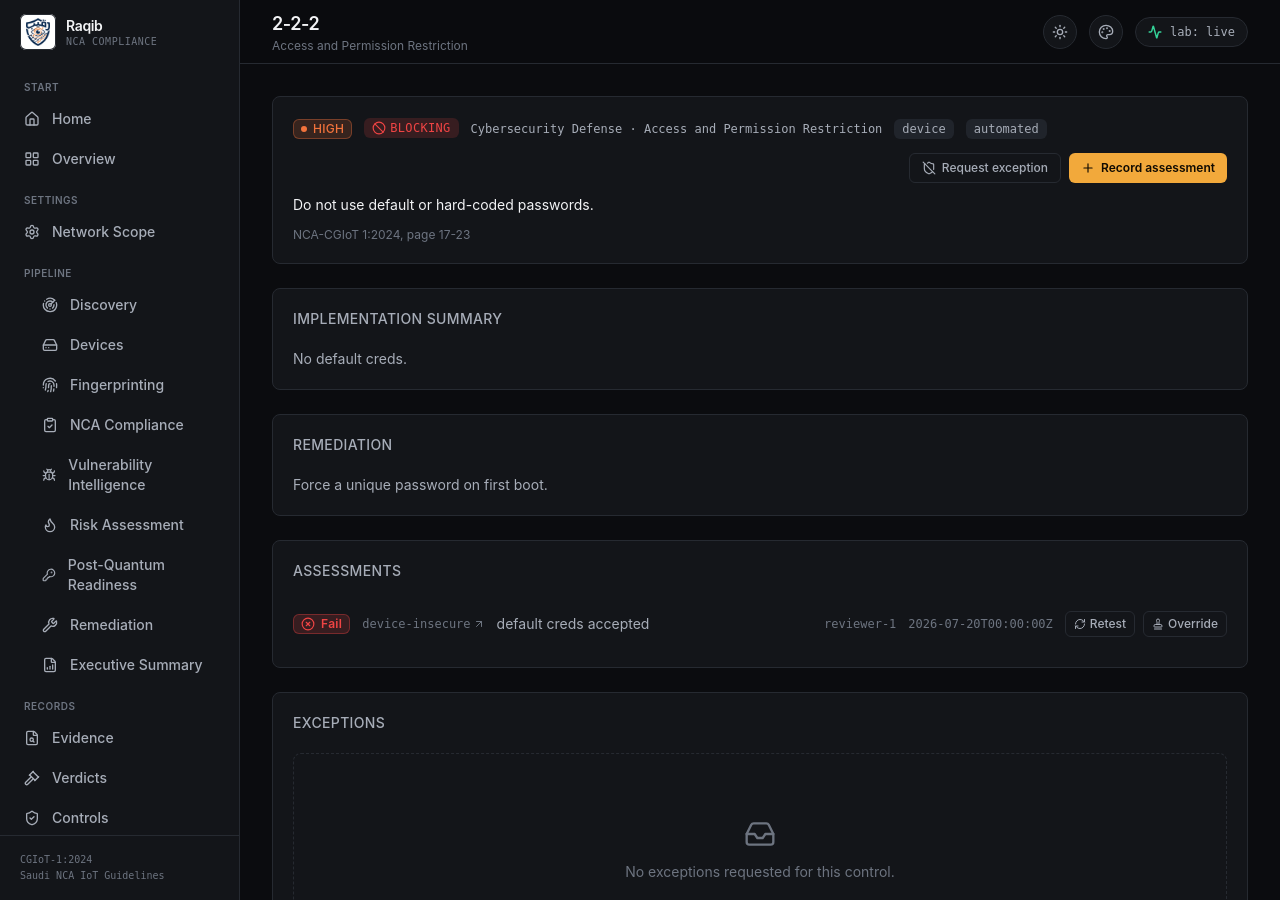
Test: NCAControlDetailPage › pre-fills the device from the ?device_id= query param when navigated from a device's Compliance tab
The image size is (1280, 900).
Expected: the text "Do not use default or hard-coded passwords." is shown, [293, 196, 594, 213]
Click the button "Record assessment".
click(1148, 168)  # box [1069, 153, 1227, 183]
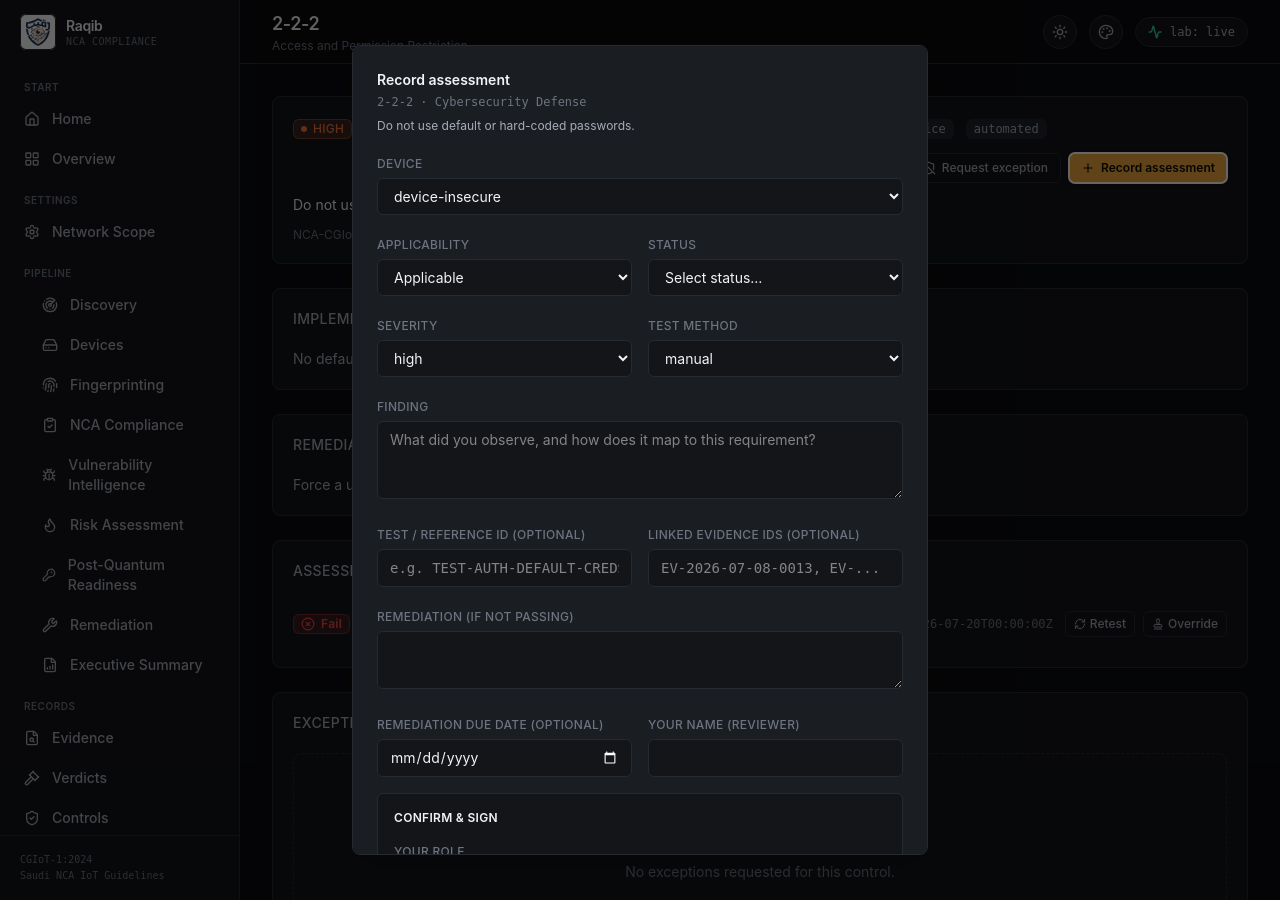
Expected: the dropdown labelled "Device" shows "device-insecure", [377, 178, 903, 215]
